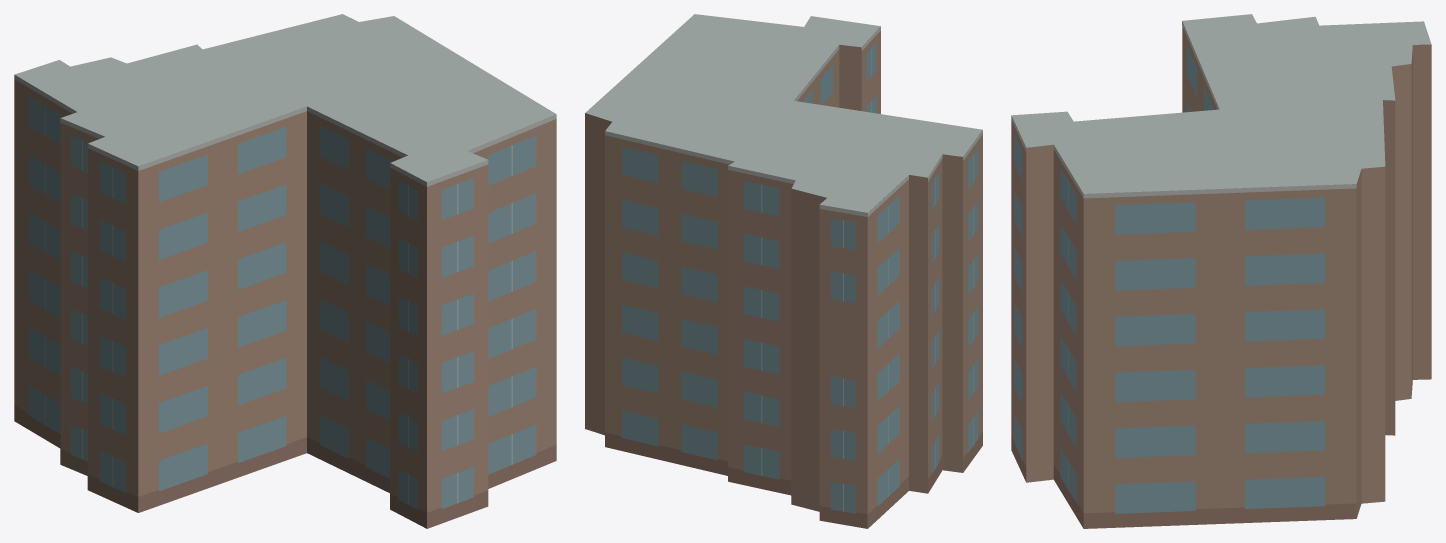
The model's file is survey-upis-32584255.glb.
The picture shows the model from 3 angles, left to right: view 1: azimuth 30°, elevation 25°; view 2: azimuth 150°, elevation 25°; view 3: azimuth 270°, elevation 25°; orthographic projection. The views are drawn at different scales.
Parts seen in each view (by area): view 1: survey-upis-32584255.tmp; view 2: survey-upis-32584255.tmp; view 3: survey-upis-32584255.tmp.
Boxes of the visible parts, left/top/right/bottom form: survey-upis-32584255.tmp: left=14, top=14, right=556, bottom=528; survey-upis-32584255.tmp: left=585, top=14, right=982, bottom=528; survey-upis-32584255.tmp: left=1011, top=14, right=1431, bottom=528.
Bounding box in the file's own units: 21.09 × 18.3 × 20.81.
